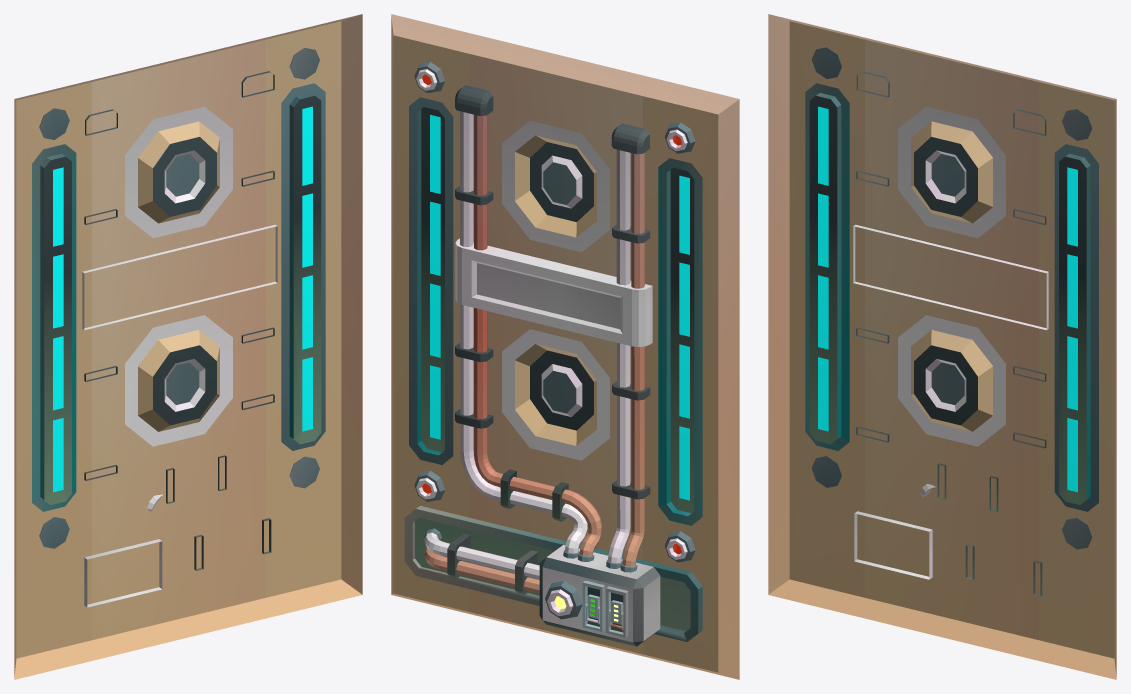
Rendered from C_Wall_tapered_1.fbx.
3 renders of one model, left to right at view 1: azimuth 30°, elevation 25°; view 2: azimuth 150°, elevation 25°; view 3: azimuth 330°, elevation 25°, orthographic.
Parts seen in each view (by area): view 1: C_Wall_tapered_1; view 2: C_Wall_tapered_1; view 3: C_Wall_tapered_1.
Boxes of the visible parts, bbox=[...] form: C_Wall_tapered_1: bbox=[14, 14, 362, 679]; C_Wall_tapered_1: bbox=[391, 14, 739, 679]; C_Wall_tapered_1: bbox=[768, 14, 1116, 679].
Size of the model in its own units: 1.25 by 0.2536 by 1.98.
